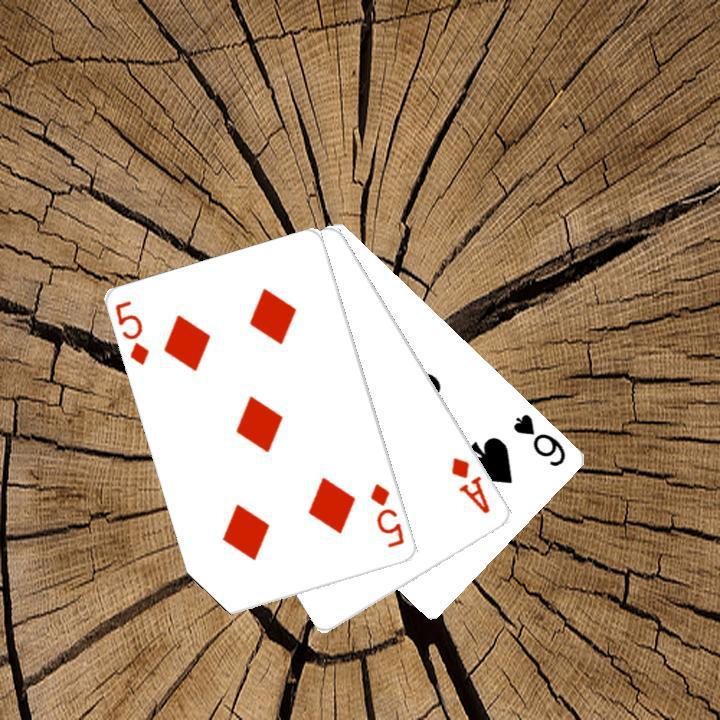5: (111, 296, 152, 368), (366, 479, 407, 550)
6: (509, 409, 569, 469)
A: (447, 453, 493, 516)
